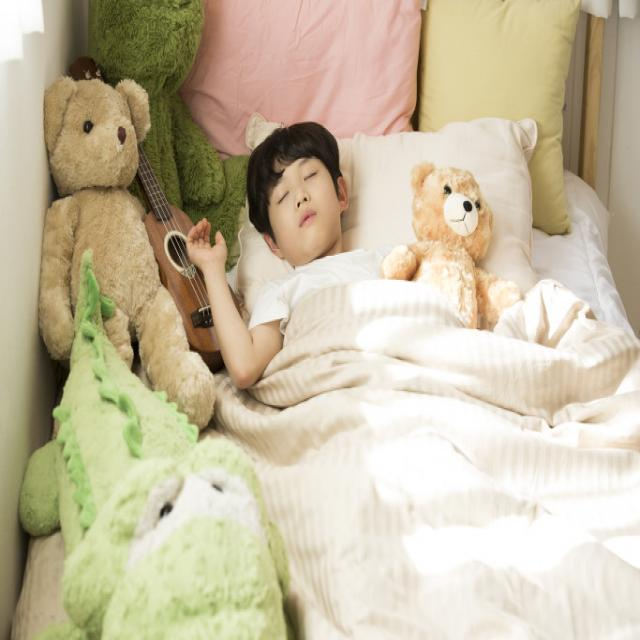people: (179, 102, 607, 640)
